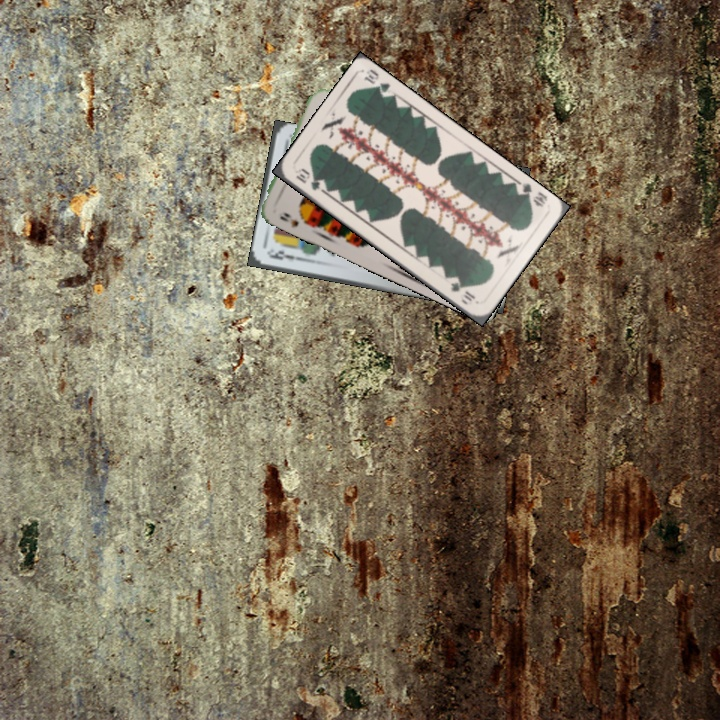EK: (265, 247, 305, 263)
G10: (512, 179, 550, 210), (292, 164, 323, 193)
S9: (276, 209, 311, 230)
